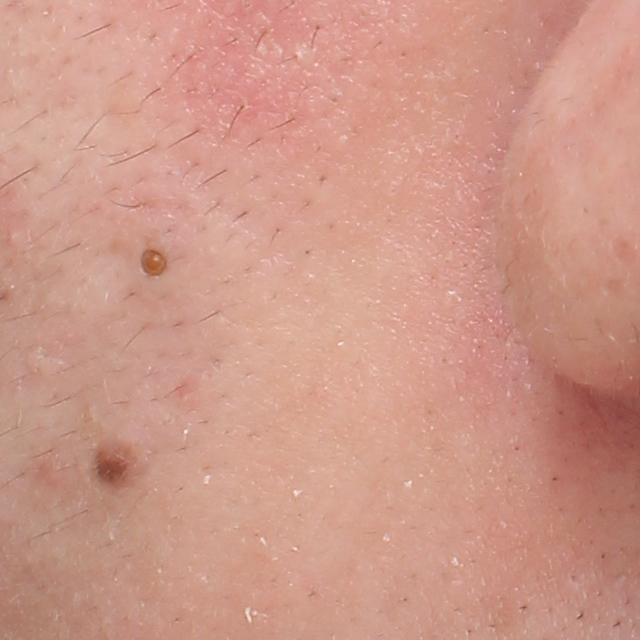comedo: (136, 240, 173, 283)
